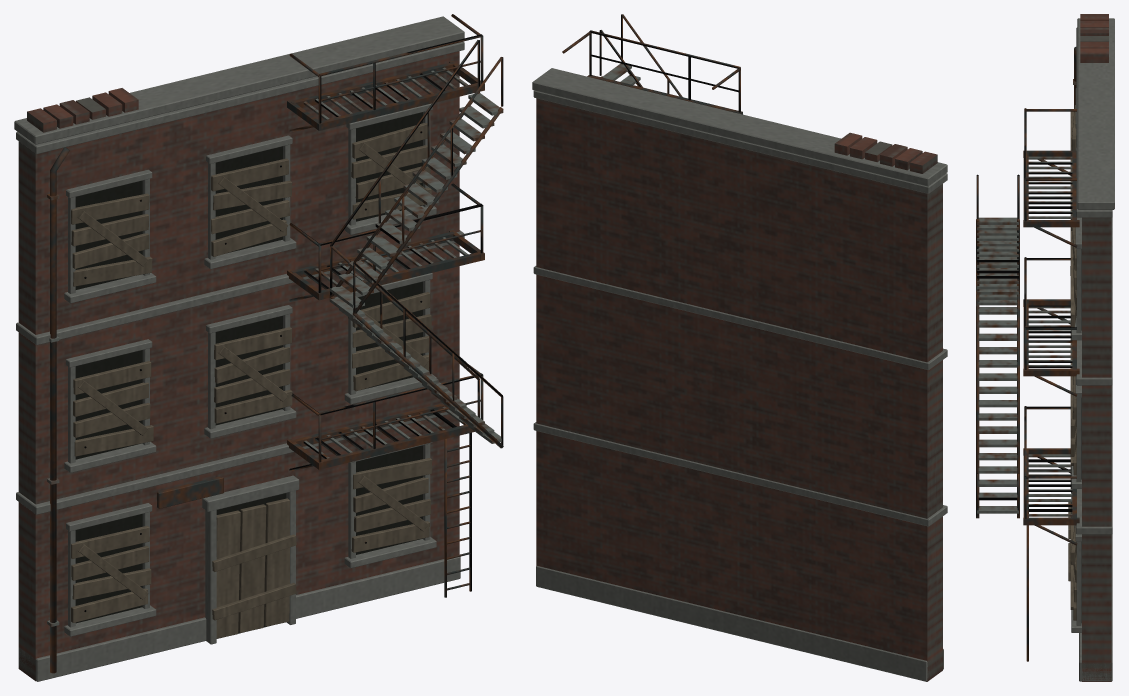
File: brick_facade.glb
3 views of the same model, side by side, from view 1: azimuth 30°, elevation 25°; view 2: azimuth 150°, elevation 25°; view 3: azimuth 270°, elevation 25° (orthographic). The views are drawn at different scales.
Parts seen in each view (by area): view 1: brick_facade; view 2: brick_facade; view 3: brick_facade.
Part boxes in pixels (x1,y1,x2,y2): brick_facade: [14, 14, 503, 681]; brick_facade: [532, 14, 947, 681]; brick_facade: [976, 14, 1114, 681].
Size of the model in its own units: 7.91 by 10.02 by 2.52.
Materials: 1 (1 with a texture image).
